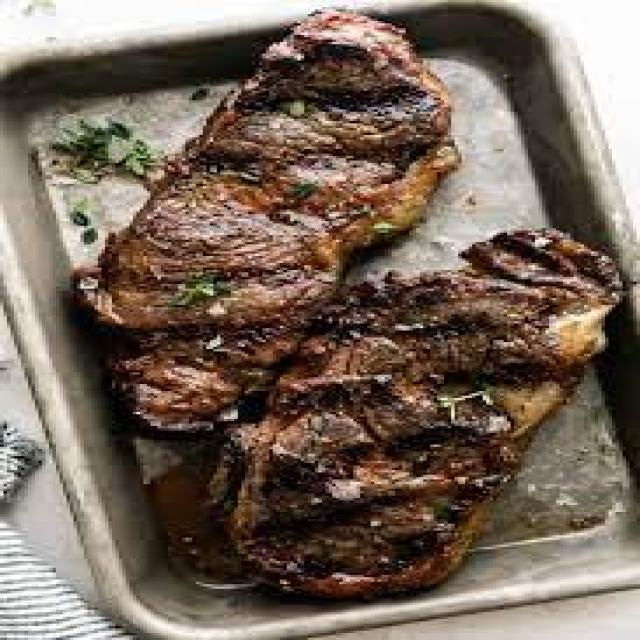Carne: (66, 4, 626, 600), (206, 224, 626, 598), (70, 4, 462, 330)
